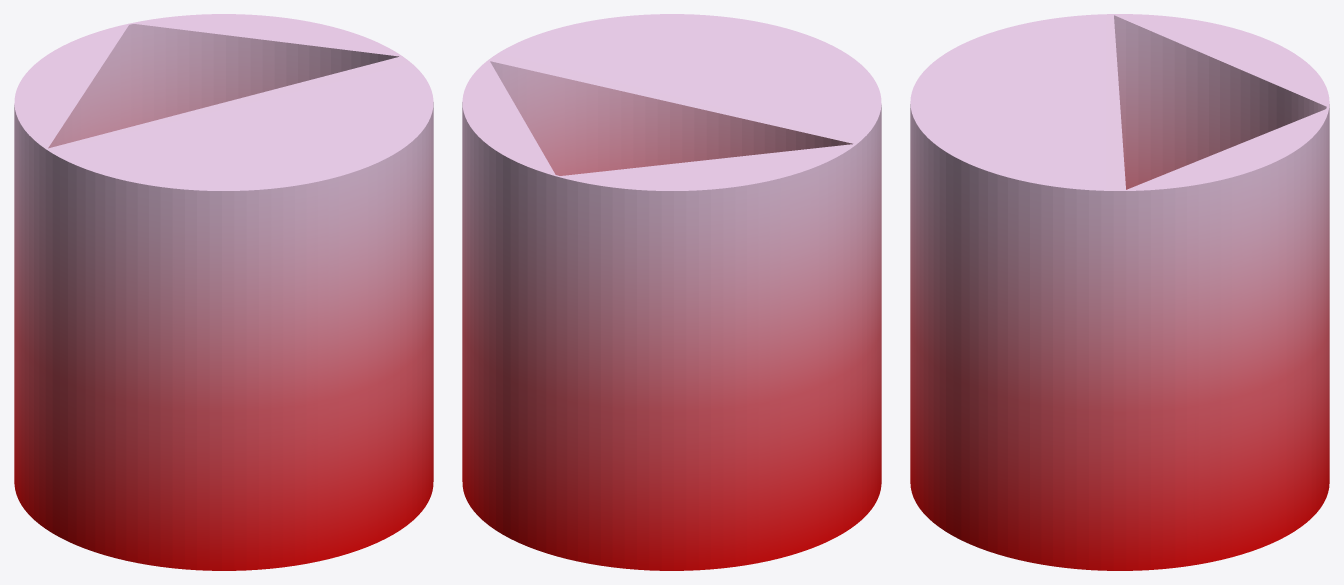
The model's file is DeliveryIndicator.fbx.
The picture shows the model from 3 angles, left to right: view 1: azimuth 30°, elevation 25°; view 2: azimuth 150°, elevation 25°; view 3: azimuth 270°, elevation 25°; orthographic projection.
Parts seen in each view (by area): view 1: Cylinder; view 2: Cylinder; view 3: Cylinder.
Boxes of the visible parts, left/top/right/bottom form: Cylinder: left=14, top=14, right=433, bottom=570; Cylinder: left=462, top=14, right=881, bottom=570; Cylinder: left=910, top=14, right=1329, bottom=570.
Size of the model in its own units: 200 by 200 by 200.
Materials: 1 (1 with a texture image).
